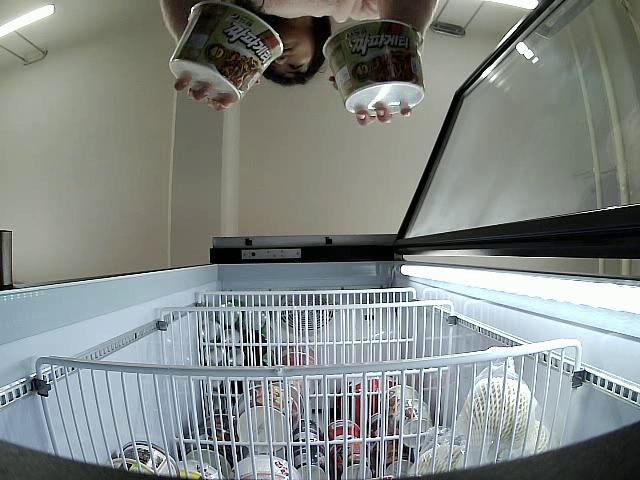00_hand: (171, 75, 234, 116), (356, 104, 414, 127)
03_chapagetti_L: (165, 2, 279, 100), (324, 18, 431, 114)
